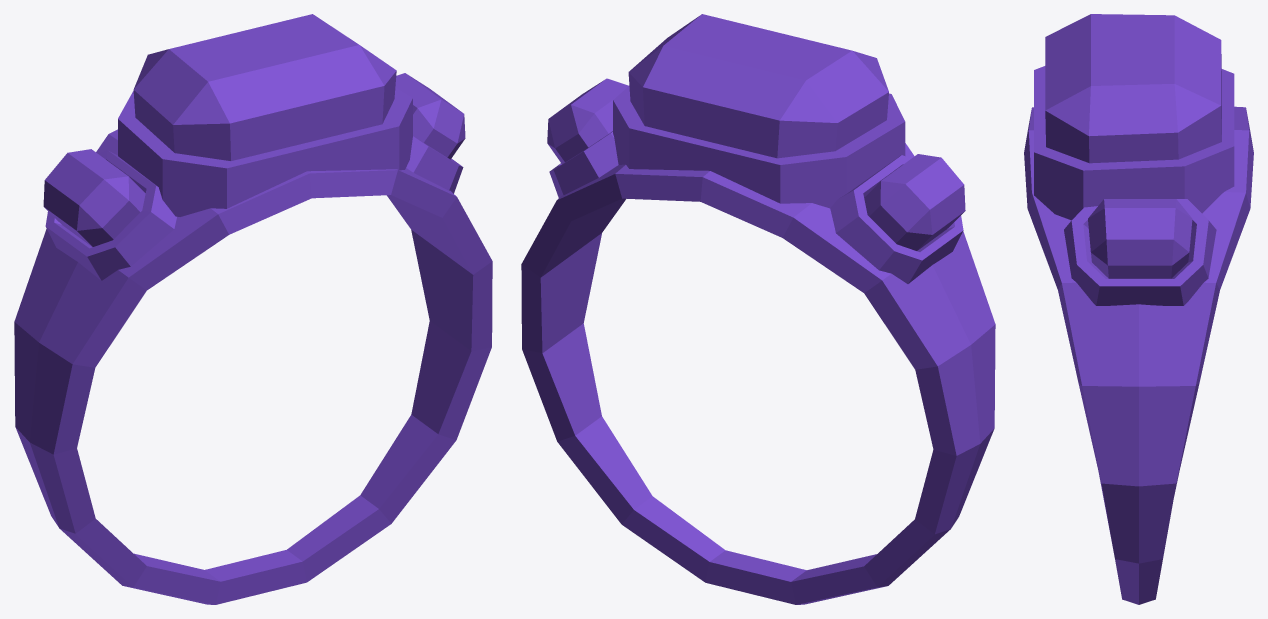
The model's file is anillo3.glb.
The picture shows the model from 3 angles, left to right: view 1: azimuth 30°, elevation 25°; view 2: azimuth 150°, elevation 25°; view 3: azimuth 270°, elevation 25°; orthographic projection. The views are drawn at different scales.
Parts seen in each view (by area): view 1: Ring5_Torus.012; view 2: Ring5_Torus.012; view 3: Ring5_Torus.012.
Part boxes in pixels (x1,y1,x2,y2): Ring5_Torus.012: [14, 14, 492, 604]; Ring5_Torus.012: [521, 14, 995, 604]; Ring5_Torus.012: [1024, 14, 1253, 604].
Bounding box in the file's own units: 0.6619 × 0.7723 × 0.3013.
